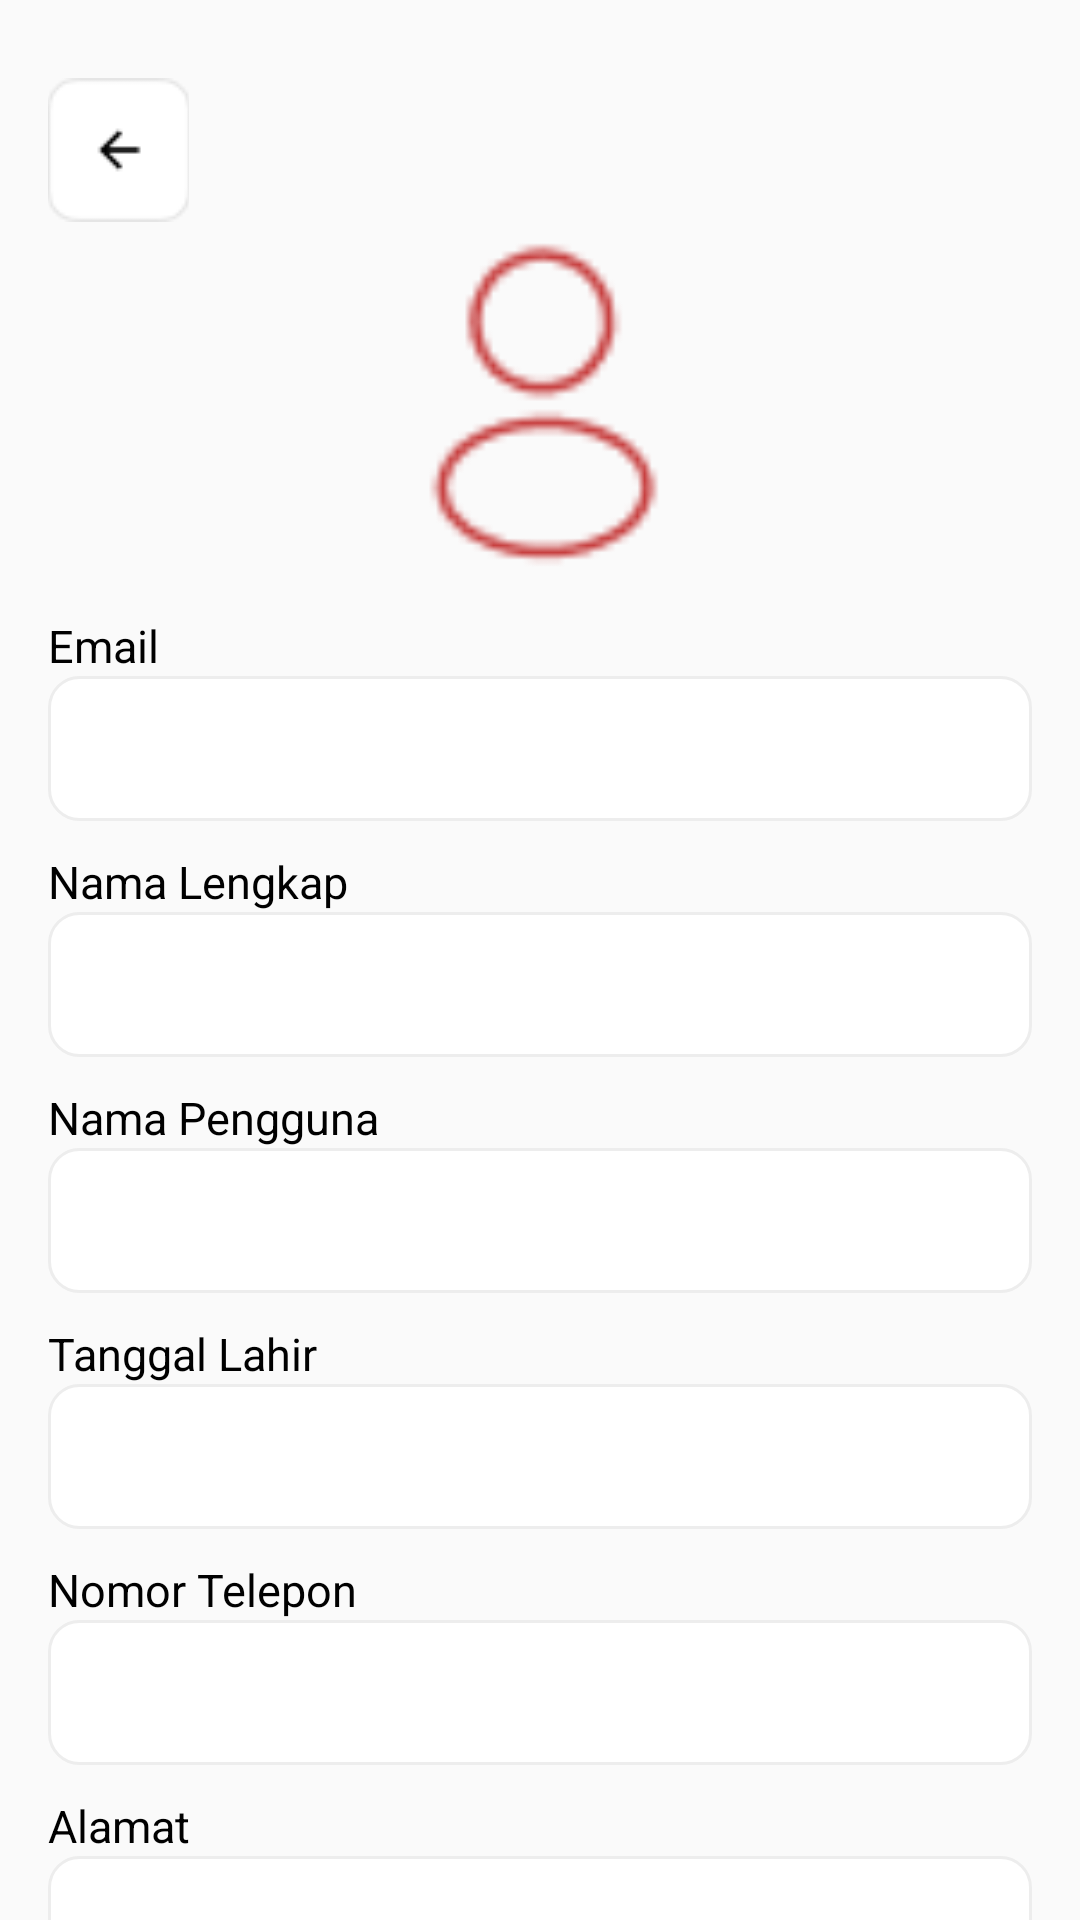

Screen size 1080 x 1920. Icon name, then its center in pixels as (x,y):
Kembali: (119,150)
profile: (544,402)
